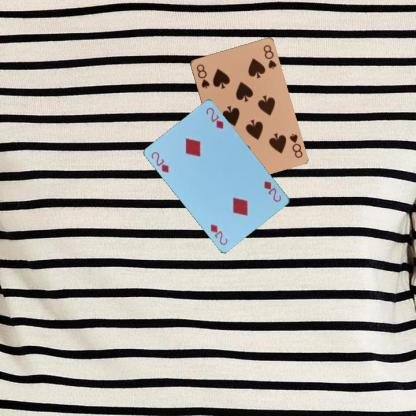2d: (148, 149, 171, 174), (262, 178, 282, 203)
8s: (193, 61, 211, 90), (286, 130, 304, 159)
